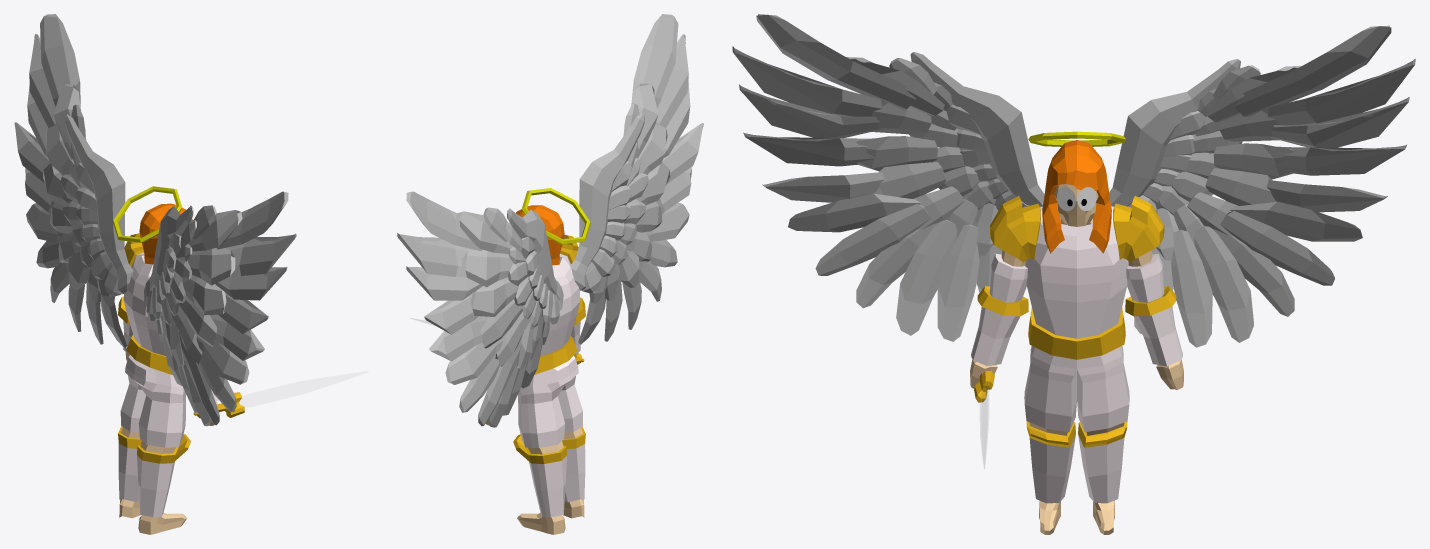
Rendered from Potestad.fbx.
3 views of the same model, side by side, from view 1: azimuth 30°, elevation 25°; view 2: azimuth 150°, elevation 25°; view 3: azimuth 270°, elevation 25° (orthographic). The views are drawn at different scales.
Parts seen in each view (by area): view 1: Cylinder.116, Cylinder.117, CUERP BACKUP.007, CUERP BACKUP.008, CUERP BACKUP.004, Cylinder.081, CUERP BACKUP.001, CUERP BACKUP.009, Torus.002; view 2: Cylinder.117, Cylinder.116, CUERP BACKUP.007, CUERP BACKUP.008, CUERP BACKUP.004, CUERP BACKUP.001, CUERP BACKUP.009, Torus.002; view 3: Cylinder.116, Cylinder.117, CUERP BACKUP.004, CUERP BACKUP.007, CUERP BACKUP.006, CUERP BACKUP.008, CUERP BACKUP.005, CUERP BACKUP.009, CUERP BACKUP.001, CUERP BACKUP.010, Torus.002, Cylinder.081.
Part boxes in pixels (box(x1,y1,x2,y2)): Cylinder.116: box(144, 191, 296, 426); Cylinder.117: box(14, 14, 133, 348); CUERP BACKUP.007: box(120, 355, 186, 447); CUERP BACKUP.008: box(118, 426, 190, 517); CUERP BACKUP.004: box(123, 252, 172, 374); Cylinder.081: box(193, 371, 367, 418); CUERP BACKUP.001: box(119, 352, 218, 534); CUERP BACKUP.009: box(139, 203, 192, 264); Torus.002: box(113, 186, 181, 242); Cylinder.117: box(397, 191, 563, 427); Cylinder.116: box(570, 14, 703, 344); CUERP BACKUP.007: box(518, 355, 582, 447); CUERP BACKUP.008: box(513, 426, 585, 517); CUERP BACKUP.004: box(534, 253, 580, 374); CUERP BACKUP.001: box(486, 353, 584, 534); CUERP BACKUP.009: box(516, 205, 564, 265); Torus.002: box(522, 188, 590, 244); Cylinder.116: box(732, 14, 1044, 341); Cylinder.117: box(1109, 25, 1415, 347); CUERP BACKUP.004: box(1025, 205, 1128, 359); CUERP BACKUP.007: box(1024, 346, 1129, 432); CUERP BACKUP.006: box(971, 253, 1182, 366); CUERP BACKUP.008: box(1026, 421, 1127, 503); CUERP BACKUP.005: box(990, 196, 1164, 262); CUERP BACKUP.009: box(1042, 140, 1111, 253); CUERP BACKUP.001: box(970, 184, 1183, 534); CUERP BACKUP.010: box(977, 286, 1176, 316); Torus.002: box(1028, 131, 1125, 146); Cylinder.081: box(974, 370, 994, 468).
Size of the model in its own units: 338 by 628 by 752.
